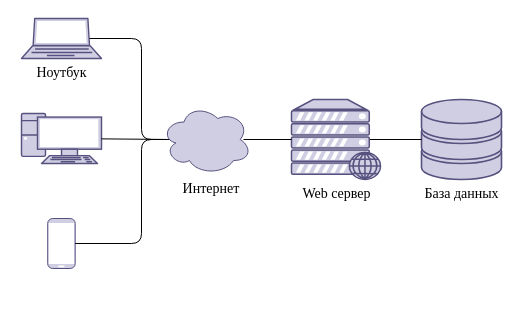
Image size: 519x309. Some labels were removed from this diagram. Each missing label, with the centre of its shape:
"Персональный компьютер" belongs at [61,138].
"Смартфон" belongs at [61,243].
